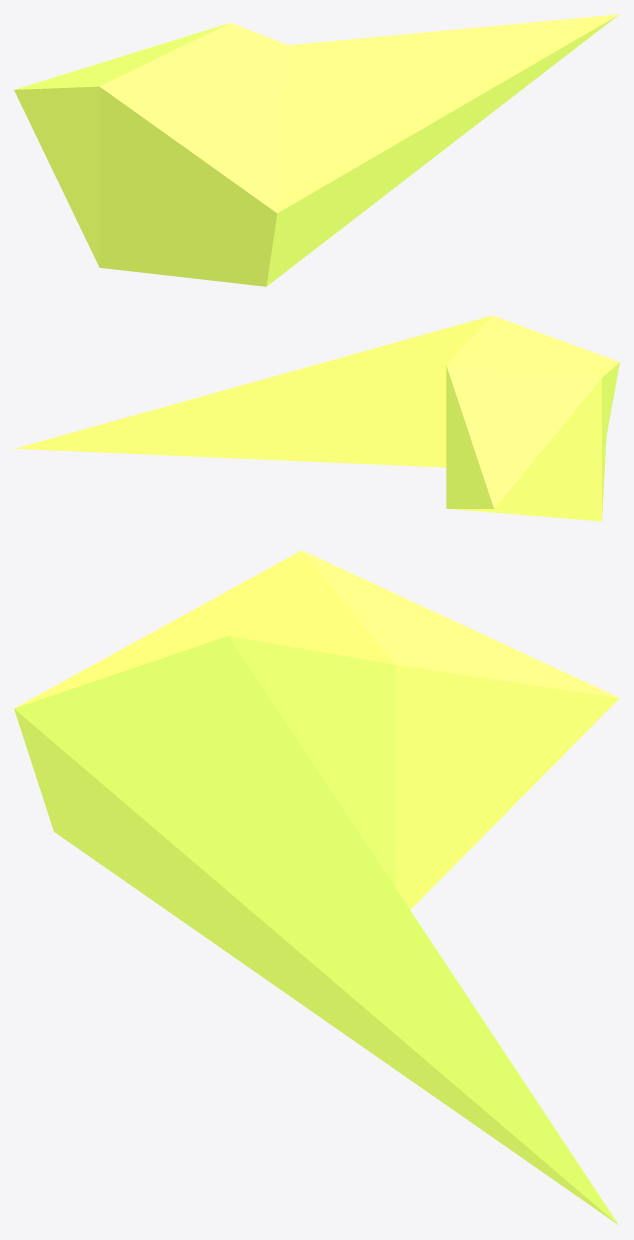
File: H1_YPl_Blob3.gltf
3 views of the same model, one above another, from view 1: azimuth 30°, elevation 25°; view 2: azimuth 150°, elevation 25°; view 3: azimuth 270°, elevation 25° (orthographic). The views are drawn at different scales.
Visible parts, largest first — view 1: H1_YPl_Blob3; view 2: H1_YPl_Blob3; view 3: H1_YPl_Blob3.
Boxes of the visible parts, x1,y1,x2,y2 form: H1_YPl_Blob3: (14,14,619,286); H1_YPl_Blob3: (14,315,619,521); H1_YPl_Blob3: (14,550,619,1224).
Size of the model in its own units: 1.2 by 0.3659 by 0.6951.
